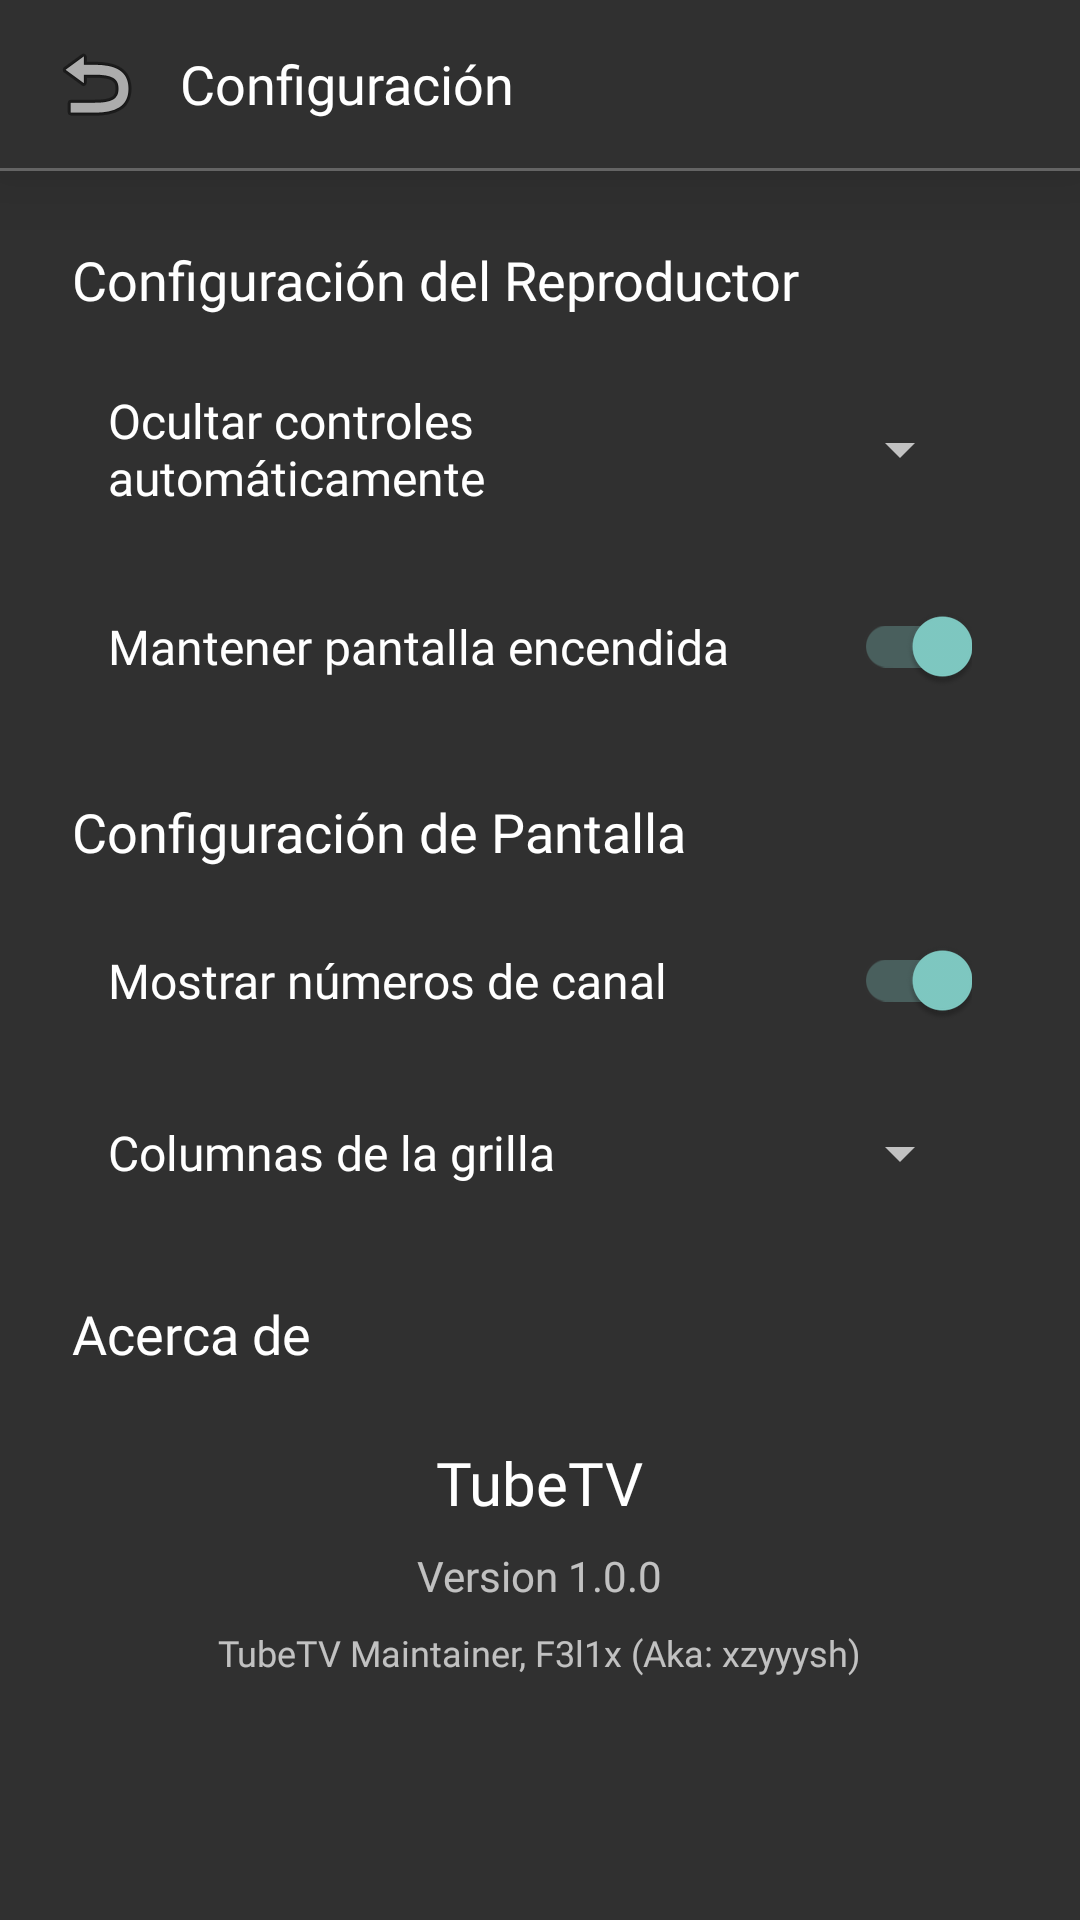

Named icons in this screenshot (1080w x 1920h) and their centers, point (x, y):
Atrás: point (97, 85)
